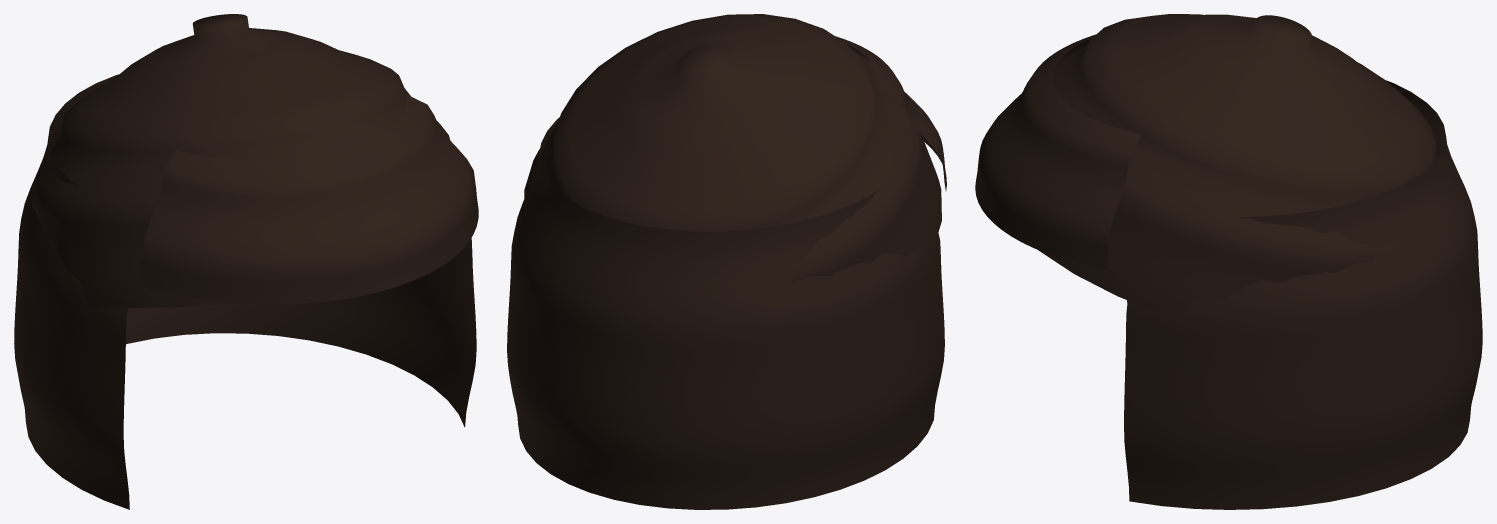
The model's file is hair_bob_female.glb.
3 views of the same model, side by side, from view 1: azimuth 30°, elevation 25°; view 2: azimuth 150°, elevation 25°; view 3: azimuth 270°, elevation 25° (orthographic). The views are drawn at different scales.
Parts seen in each view (by area): view 1: hair, bang, bob_side; view 2: bob_side, hair, bang; view 3: bob_side, hair, bang.
Boxes of the visible parts, x1=… form: hair: x1=32, y1=14, x2=449, y2=307; bang: x1=139, y1=94, x2=478, y2=304; bob_side: x1=14, y1=74, x2=476, y2=509; bob_side: x1=507, y1=117, x2=944, y2=509; hair: x1=524, y1=14, x2=941, y2=282; bang: x1=835, y1=36, x2=946, y2=190; bob_side: x1=1124, y1=80, x2=1482, y2=509; hair: x1=1038, y1=14, x2=1437, y2=318; bang: x1=975, y1=34, x2=1142, y2=269.
Size of the model in its own units: 0.316 by 0.3091 by 0.3569.
